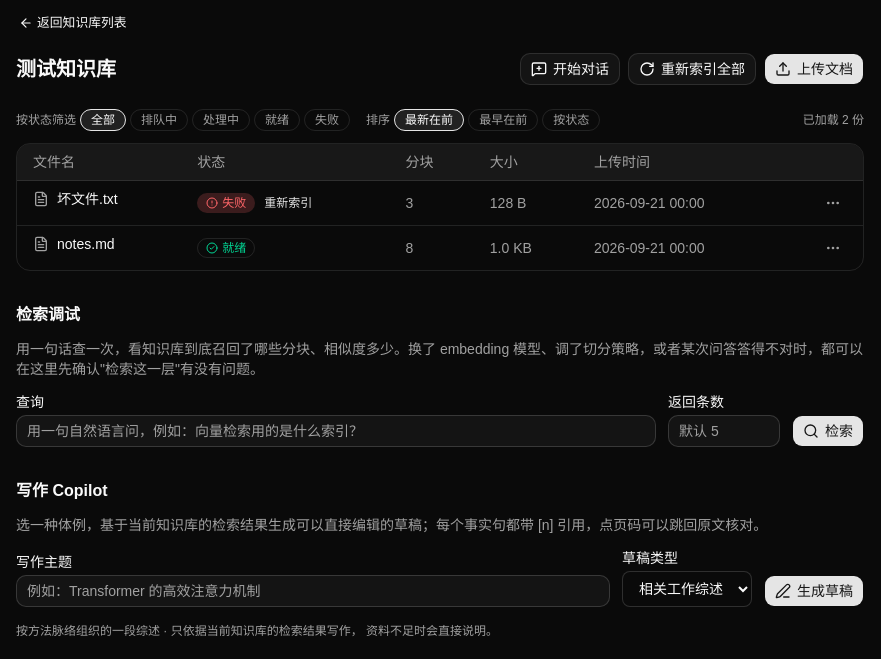
Test: 检索调试视图（issue #77） › 检索失败是一条页内 Alert（它是读操作，不该弹 toast）
The width and height of the screenshot is (881, 659).
Type "随便问点什么" into the field labelled "查询" at (336, 431), box [16,415,656,447]
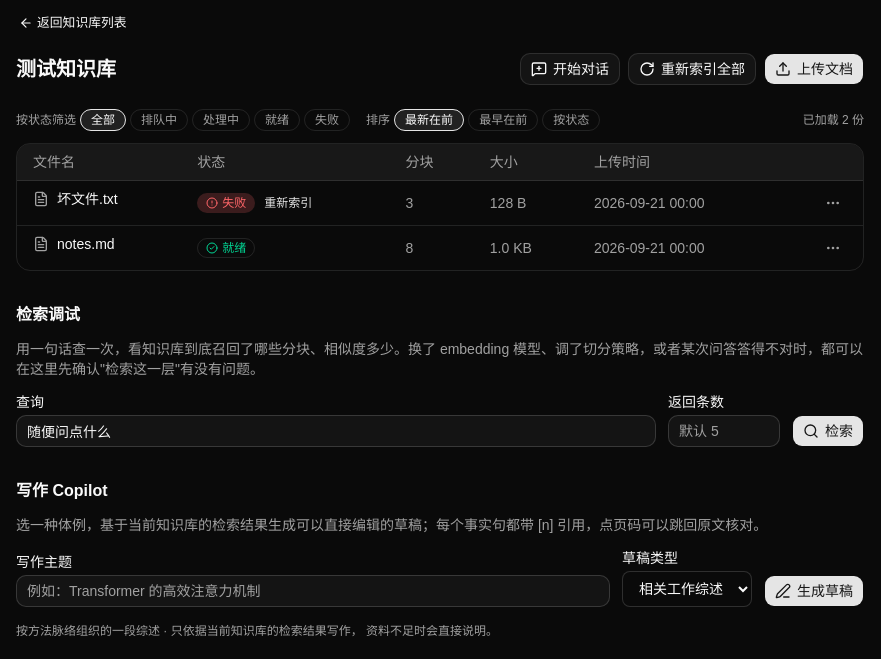
Click the button "检索" at (828, 431), box [792,415,864,447]
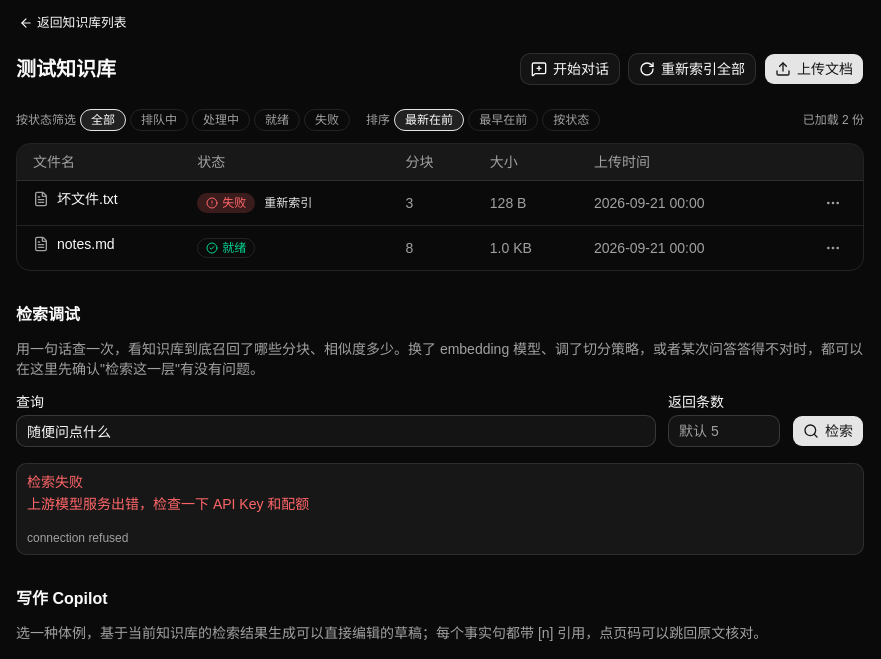
Result: the text "检索失败" is shown at [27,474,83,490]
Result: the text "上游模型服务出错，检查一下 API Key 和配额" is shown at [27,496,309,512]
